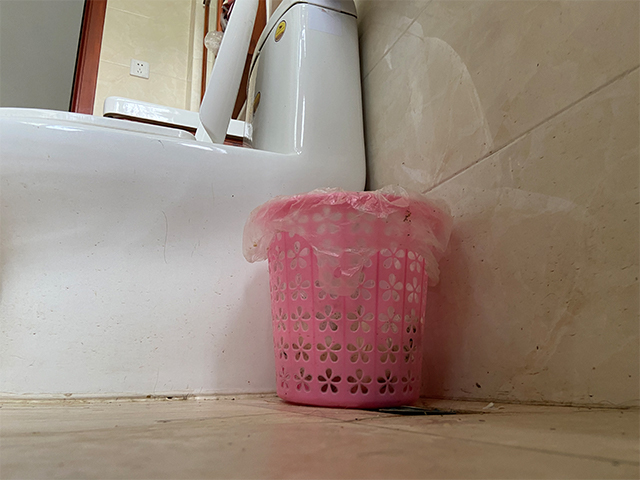closestool: (1, 1, 369, 399)
trashcan: (242, 185, 455, 410)
